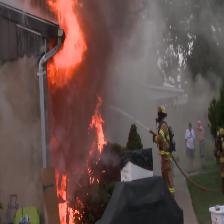fire: (38, 106, 126, 224), (26, 0, 104, 97)
smoke: (132, 0, 224, 121)
